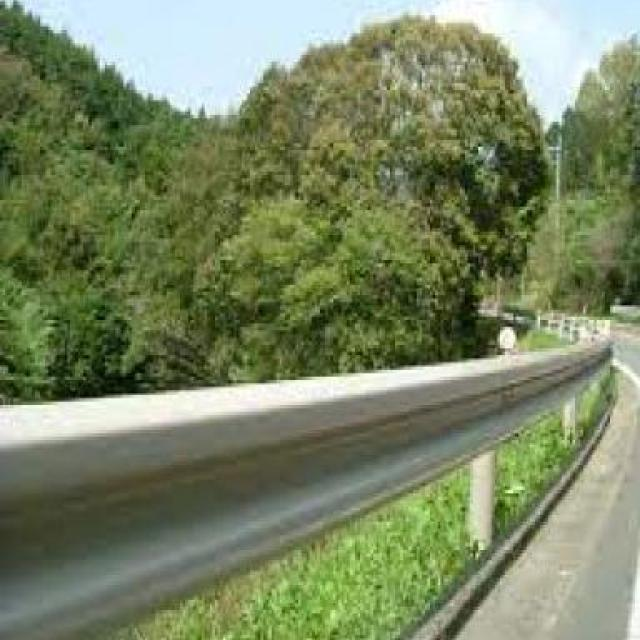Guard rail: (0, 311, 615, 640)
